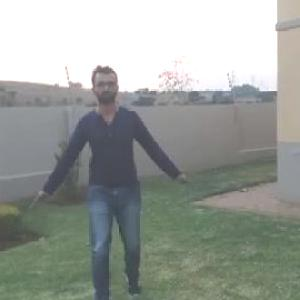land: (32, 64, 187, 299)
